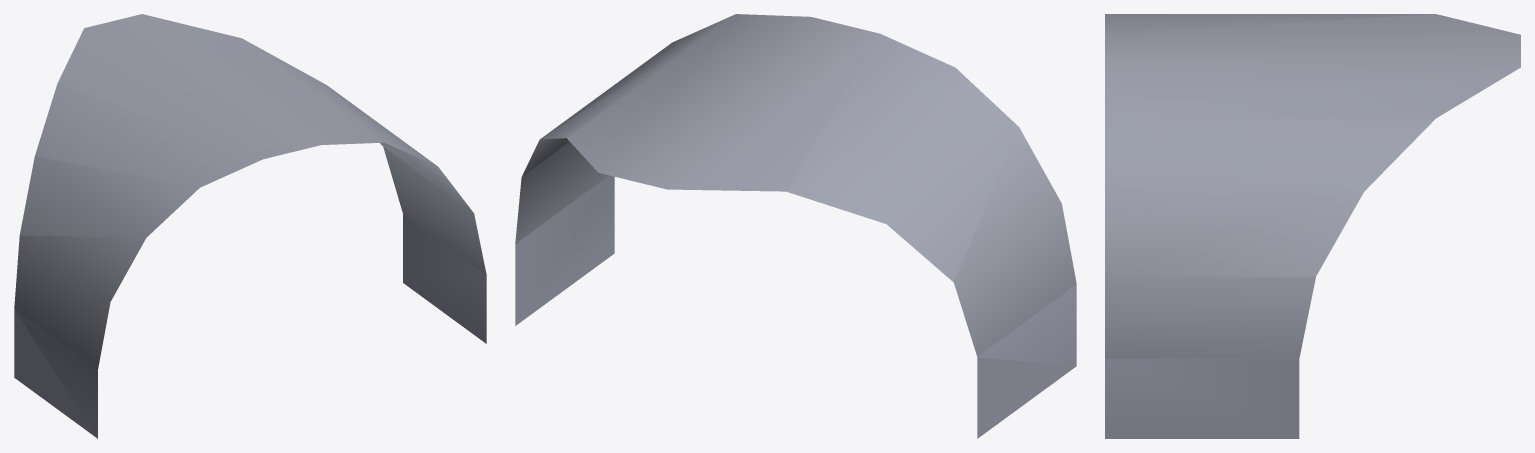
Rendered from frame_platform5.fbx.
The picture shows the model from 3 angles, left to right: view 1: azimuth 30°, elevation 25°; view 2: azimuth 150°, elevation 25°; view 3: azimuth 270°, elevation 25°; orthographic projection. The views are drawn at different scales.
Visible parts, largest first — view 1: frame_platform5; view 2: frame_platform5; view 3: frame_platform5.
Part boxes in pixels (x1,y1,x2,y2): frame_platform5: (14, 14, 486, 438); frame_platform5: (515, 14, 1076, 438); frame_platform5: (1105, 14, 1520, 438).
Size of the model in its own units: 57.29 by 33.71 by 45.73.
